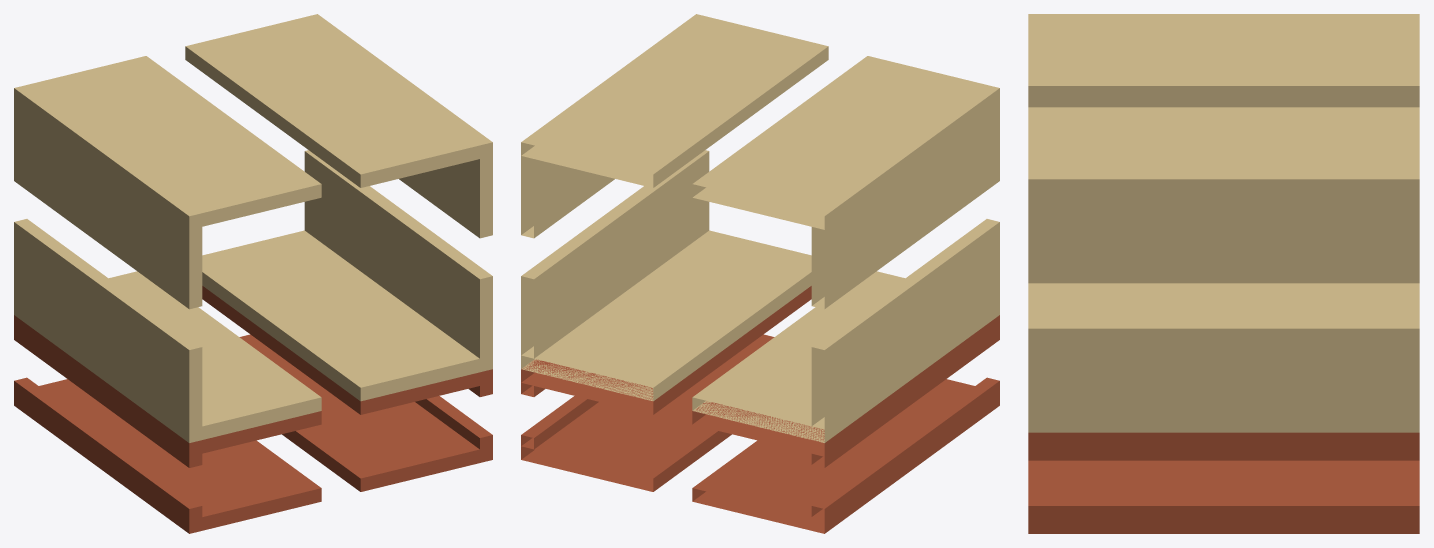
File: construction_1.glb
3 views of the same model, side by side, from view 1: azimuth 30°, elevation 25°; view 2: azimuth 150°, elevation 25°; view 3: azimuth 270°, elevation 25° (orthographic). The views are drawn at different scales.
Parts seen in each view (by area): view 1: c1; view 2: c1; view 3: c1.
Part boxes in pixels (bbox=[...]): c1: bbox=[14, 14, 492, 533]; c1: bbox=[521, 14, 999, 533]; c1: bbox=[1028, 14, 1419, 533].
Bounding box in the file's own units: 14 × 14 × 14.
